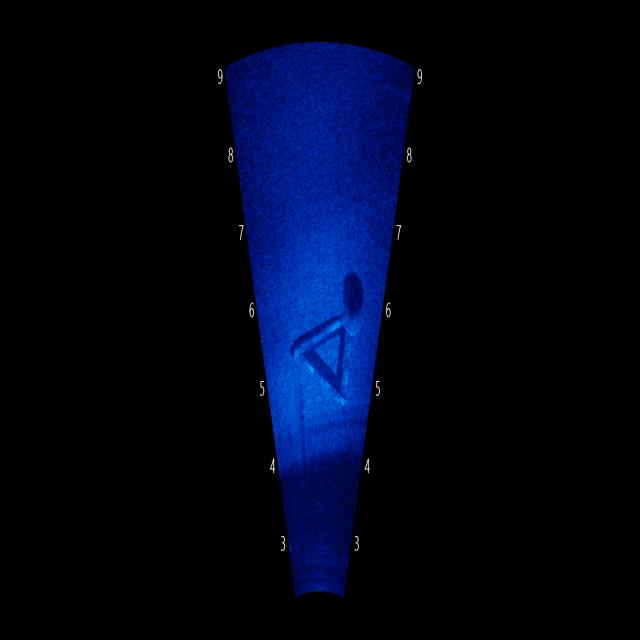triangle: (288, 239, 359, 445)
